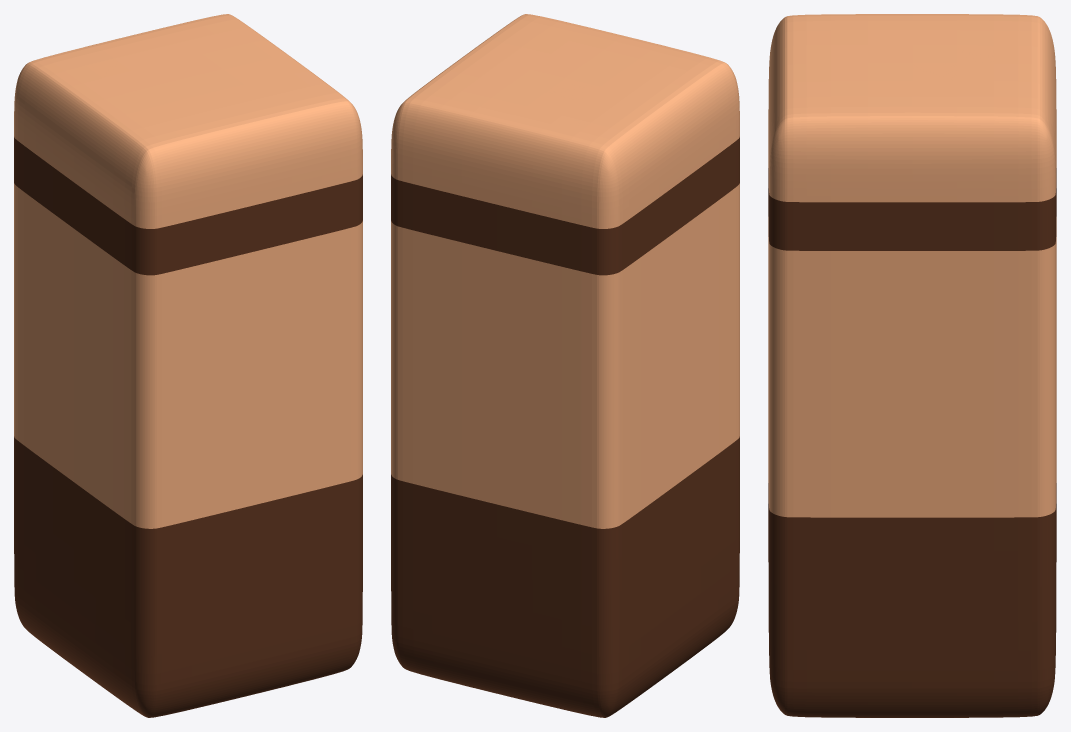
Rendered from BraunerZucker.fbx.
3 renders of one model, left to right at view 1: azimuth 30°, elevation 25°; view 2: azimuth 150°, elevation 25°; view 3: azimuth 270°, elevation 25°, orthographic. The views are drawn at different scales.
Visible parts, largest first — view 1: Cube; view 2: Cube; view 3: Cube.
Boxes of the visible parts, x1=… form: Cube: x1=14, y1=14, x2=362, y2=717; Cube: x1=391, y1=14, x2=739, y2=717; Cube: x1=768, y1=14, x2=1056, y2=717.
Size of the model in its own units: 26.99 by 64.96 by 27.99.
